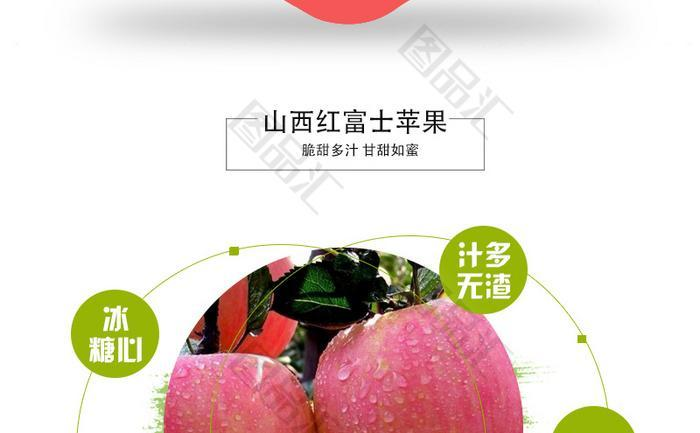apple: (310, 289, 524, 433), (167, 352, 317, 433)
